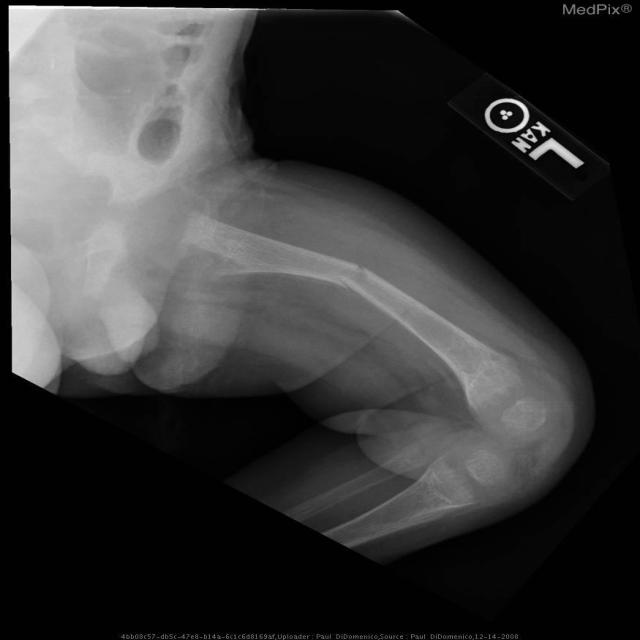fracture: (337, 264, 369, 292)
